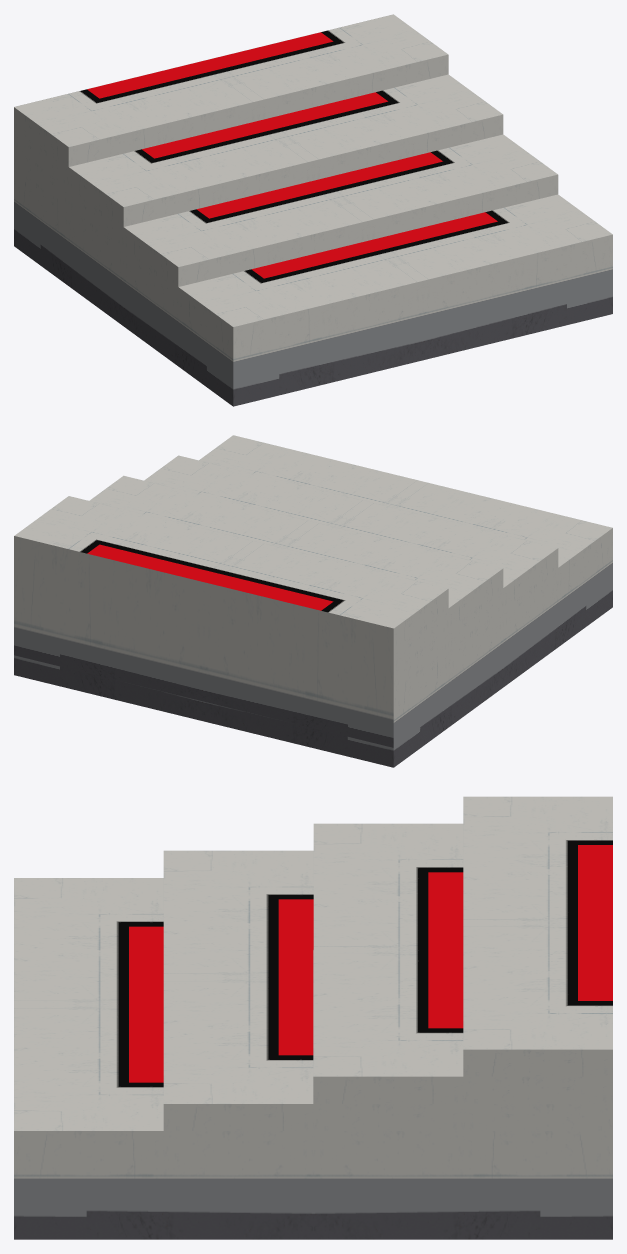
The model's file is G_Env_Arch_Stairs_Metal_00_Short.fbx.
The picture shows the model from 3 angles, top to bottom: view 1: azimuth 30°, elevation 25°; view 2: azimuth 150°, elevation 25°; view 3: azimuth 270°, elevation 25°; orthographic projection. The views are drawn at different scales.
Parts seen in each view (by area): view 1: G_Env_Arch_Stairs_Metal_00_Short; view 2: G_Env_Arch_Stairs_Metal_00_Short; view 3: G_Env_Arch_Stairs_Metal_00_Short.
Part boxes in pixels (x1,y1,x2,y2): G_Env_Arch_Stairs_Metal_00_Short: (14, 14, 612, 406); G_Env_Arch_Stairs_Metal_00_Short: (14, 435, 612, 767); G_Env_Arch_Stairs_Metal_00_Short: (14, 796, 612, 1239).
Bounding box in the file's own units: 500 × 175 × 500.
